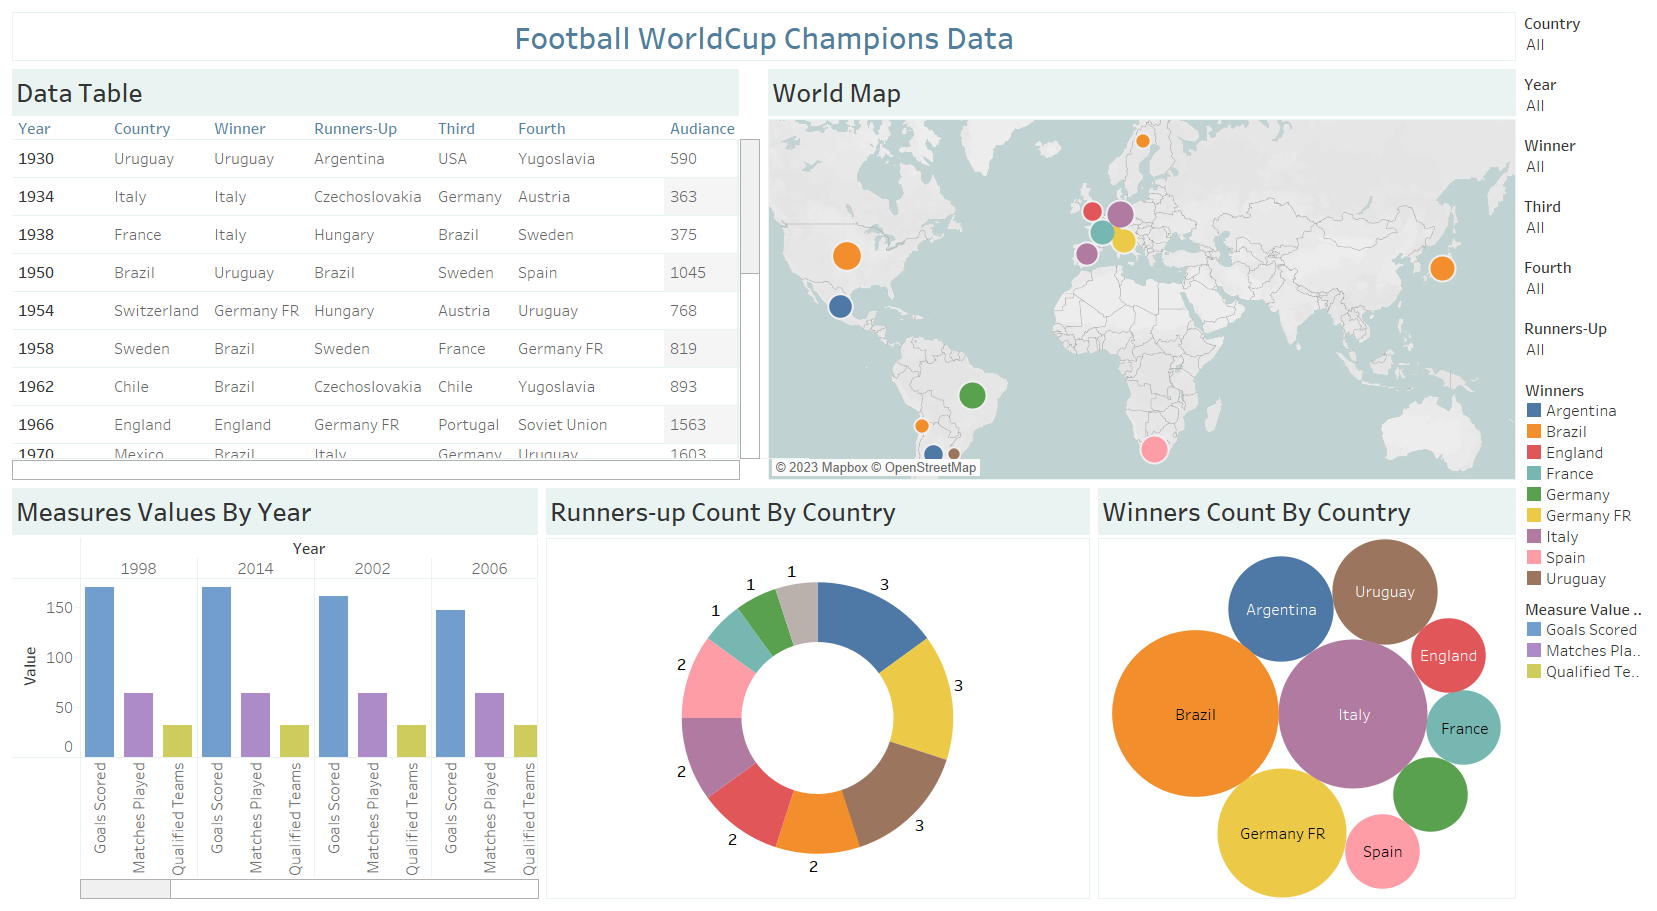

This screenshot's page, from the dashboard's own definition file:
{"tool":"tableau","page":{"name":"Football Worldcup Report","canvas":[1000,1000],"units":"permille","ordinal":0},"visuals":[{"type":"title","box":[4.9,9.3,910.8,66.2]},{"type":"filter","title":"Data Table","param":"[federated.1v0ot6x1s51lak131kgpz0ctyga8].[none:Country:nk]","box":[915.7,9.3,79.3,70.9]},{"type":"image","param":"C:/Users/thakk/Downloads/download.png","box":[11.1,11.6,131,55.8]},{"type":"worksheet","title":"Data Table","mark":"Automatic","rows":["Year","Country","Winner","Runners-Up","Third","Fourth","Calculation_1392456735784648707"],"box":[4.9,75.5,455.4,457.6]},{"type":"worksheet","title":"World Map","mark":"Automatic","box":[460.3,75.5,455.4,457.6]},{"type":"filter","title":"Data Table","param":"[federated.1v0ot6x1s51lak131kgpz0ctyga8].[none:Year:ok]","box":[915.7,80.1,79.3,70.9]},{"type":"filter","title":"Data Table","param":"[federated.1v0ot6x1s51lak131kgpz0ctyga8].[none:Winner:nk]","box":[915.7,151,79.3,70.9]},{"type":"filter","title":"Data Table","param":"[federated.1v0ot6x1s51lak131kgpz0ctyga8].[none:Third:nk]","box":[915.7,221.8,79.3,70.9]},{"type":"filter","title":"Data Table","param":"[federated.1v0ot6x1s51lak131kgpz0ctyga8].[none:Fourth:nk]","box":[915.7,292.7,79.3,70.9]},{"type":"filter","title":"Data Table","param":"[federated.1v0ot6x1s51lak131kgpz0ctyga8].[none:Runners-Up:nk]","box":[915.7,363.5,79.3,70.9]},{"type":"legend","title":"World Map","param":"[federated.1v0ot6x1s51lak131kgpz0ctyga8].[none:Winner:nk]","box":[915.7,434.4,79.3,254.3]},{"type":"worksheet","title":"Measures Values By Year","mark":"Bar","cols":["Year"],"box":[4.9,533.1,328.4,457.6]},{"type":"worksheet","title":"Runners-up Count By Country","mark":"Pie","rows":["Calculation_1392456735809101834","Calculation_1392456735809101834"],"box":[333.3,533.1,320.4,457.6]},{"type":"worksheet","title":"Winners Count By Country","mark":"Circle","box":[653.8,533.1,262,457.6]},{"type":"legend","title":"Measures Values By Year","param":"[federated.1v0ot6x1s51lak131kgpz0ctyga8].[:Measure Names]","box":[915.7,688.7,79.3,140.5]}]}

Visuals, with their boxes on the dashboard's canvas, which has no fixed pixel size, in thousandths of its width and height (x1, y1, x2, y2). These are canvas units, not pixel positions in the 1657x911 screenshot, which may show the page scaled, cropped or inside an application window:
title: rect(5, 9, 916, 76)
"Data Table" filter: rect(916, 9, 995, 80)
image: rect(11, 12, 142, 67)
"Data Table" worksheet: rect(5, 76, 460, 533)
"World Map" worksheet: rect(460, 76, 916, 533)
"Data Table" filter: rect(916, 80, 995, 151)
"Data Table" filter: rect(916, 151, 995, 222)
"Data Table" filter: rect(916, 222, 995, 293)
"Data Table" filter: rect(916, 293, 995, 364)
"Data Table" filter: rect(916, 364, 995, 434)
"World Map" legend: rect(916, 434, 995, 689)
"Measures Values By Year" worksheet (Bar marks): rect(5, 533, 333, 991)
"Runners-up Count By Country" worksheet (Pie marks): rect(333, 533, 654, 991)
"Winners Count By Country" worksheet (Circle marks): rect(654, 533, 916, 991)
"Measures Values By Year" legend: rect(916, 689, 995, 829)
